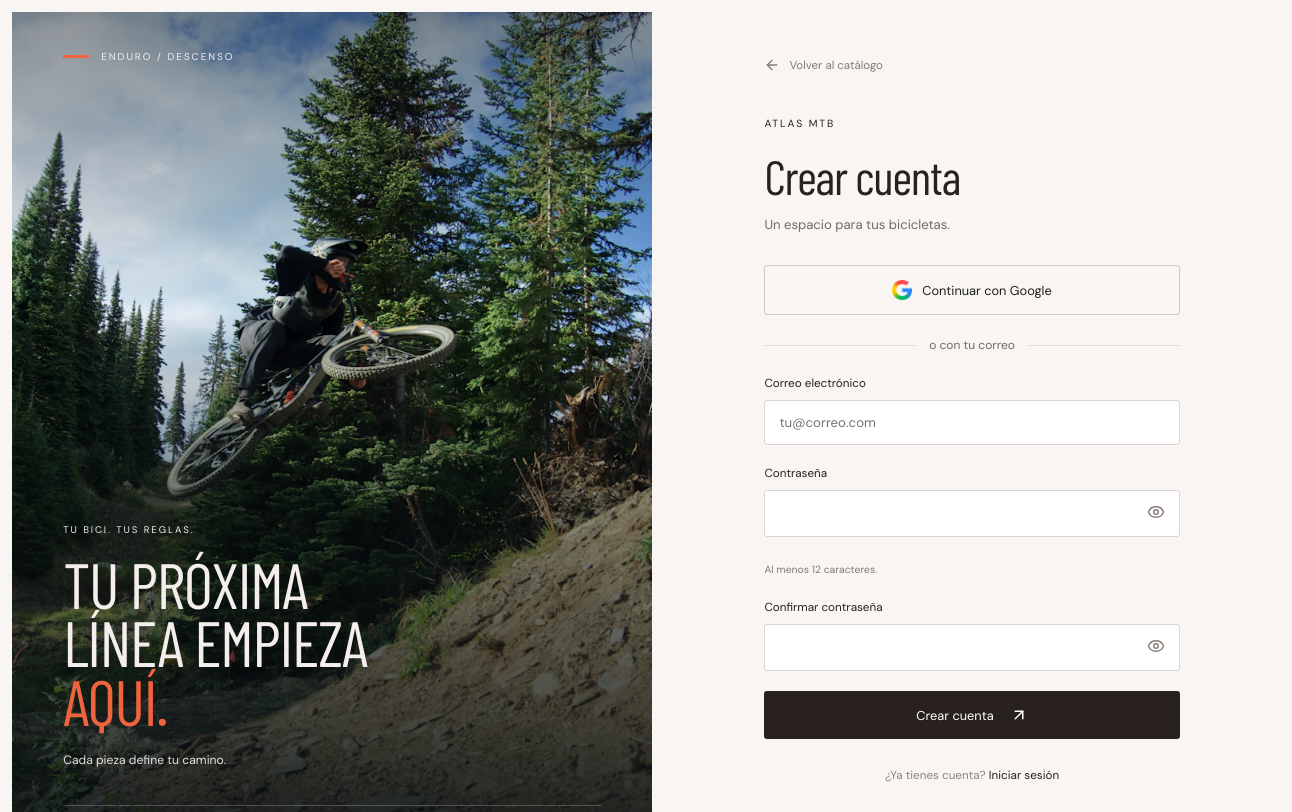
Test: starts Google from register without requiring password fields
Click the button "Continuar con Google".
click(972, 290)  # box [764,265,1180,315]
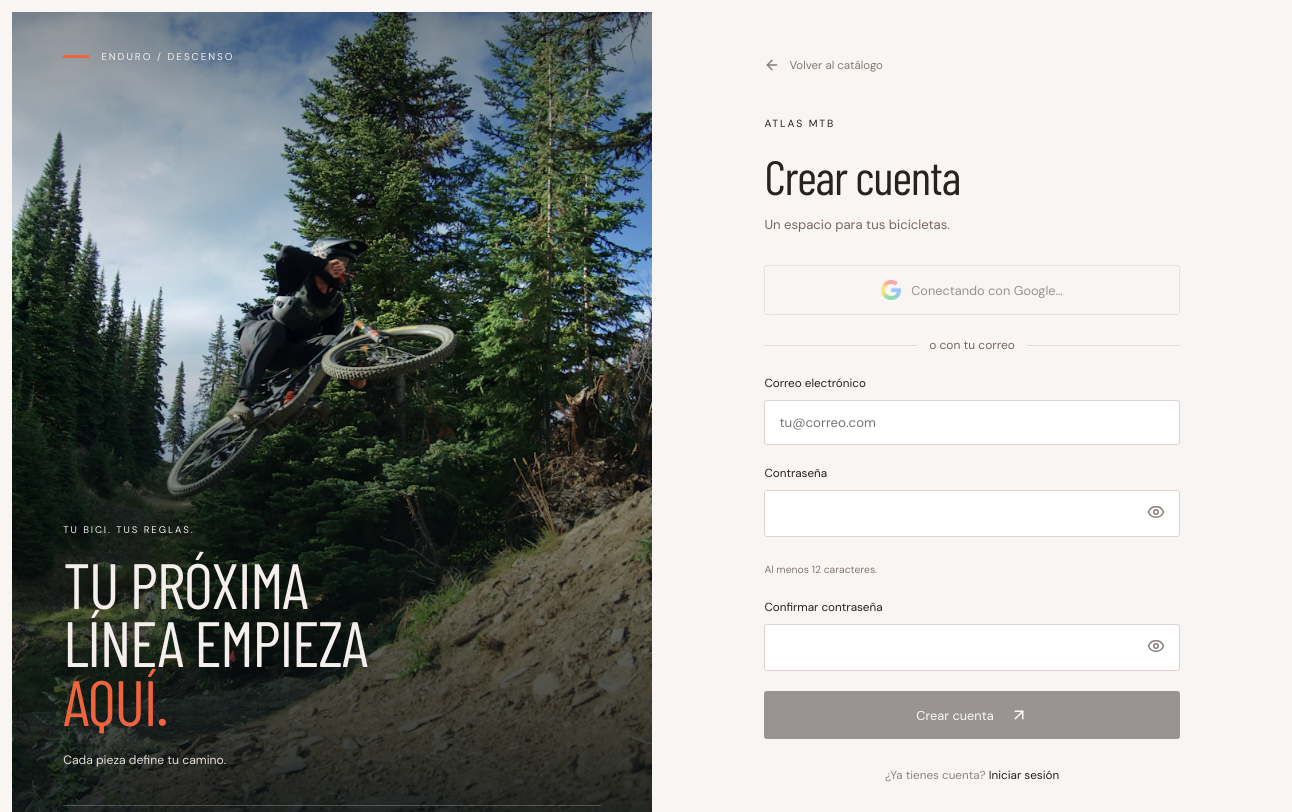
Check: the button "Conectando con Google…" is disabled, box [764,265,1180,315]
Check: the button "Crear cuenta" is disabled, box [764,691,1180,739]
